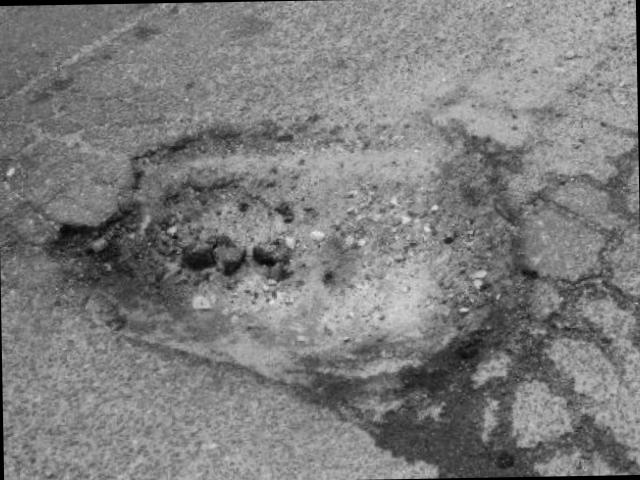Pothole: (0, 101, 576, 417)
